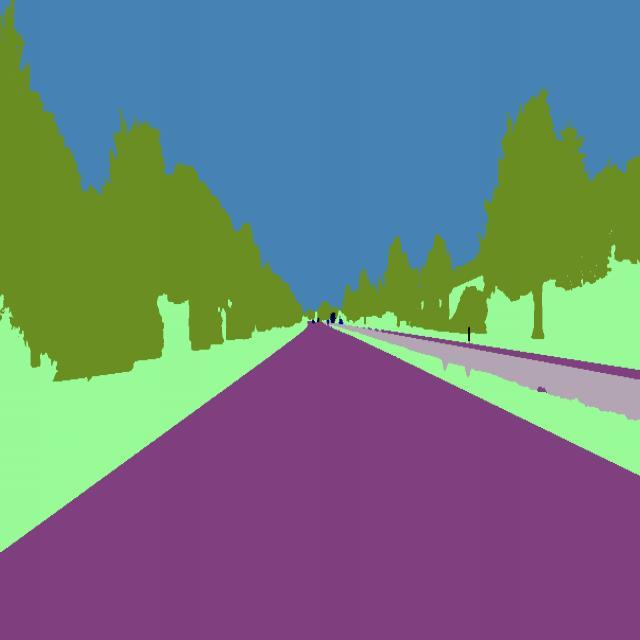safe: (338, 315, 346, 328), (324, 314, 332, 326)
